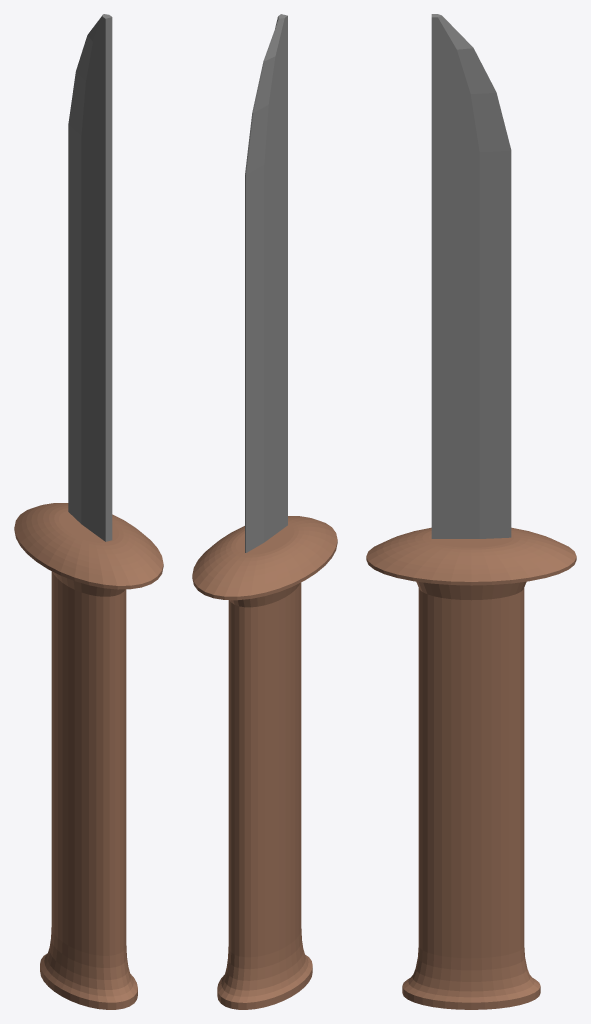
The model's file is knife.fbx.
The picture shows the model from 3 angles, left to right: view 1: azimuth 30°, elevation 25°; view 2: azimuth 150°, elevation 25°; view 3: azimuth 270°, elevation 25°; orthographic projection. The views are drawn at different scales.
Visible parts, largest first — view 1: Cylinder, Cube; view 2: Cylinder, Cube; view 3: Cylinder, Cube.
Boxes of the visible parts, left/top/right/bottom form: Cylinder: left=14, top=503, right=163, bottom=1009; Cube: left=68, top=14, right=112, bottom=541; Cylinder: left=192, top=516, right=337, bottom=1009; Cube: left=245, top=14, right=287, bottom=552; Cylinder: left=366, top=527, right=576, bottom=1009; Cube: left=431, top=14, right=511, bottom=538.
Bounding box in the file's own units: 30.43 × 271 × 52.78.
